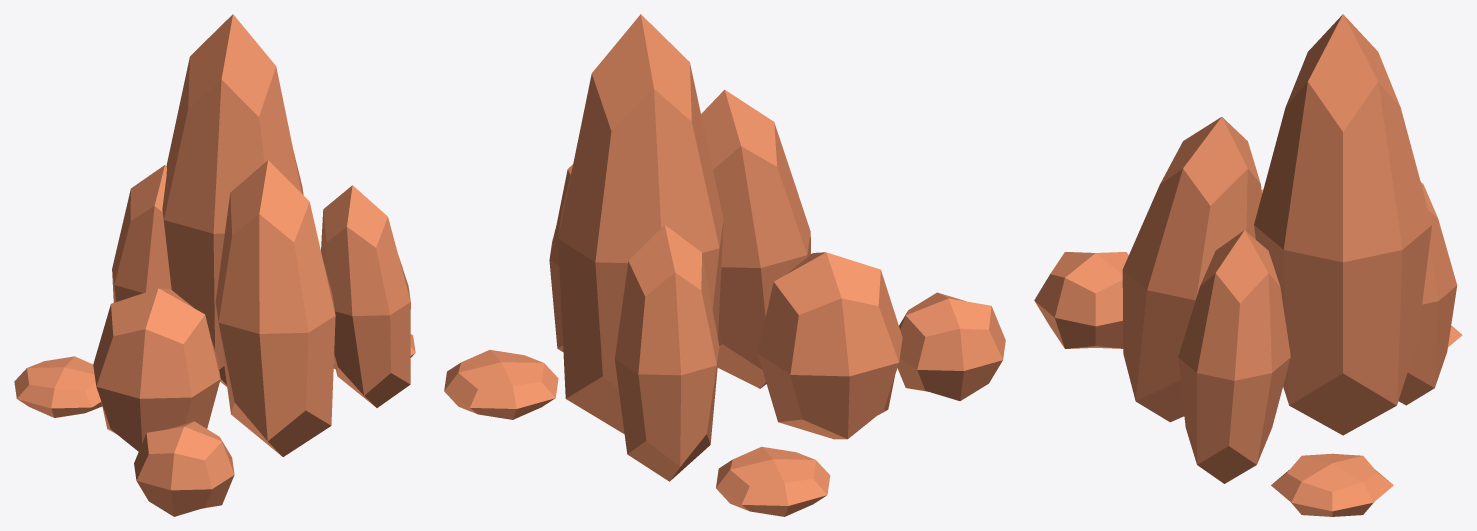
Rendered from rock01.fbx.
The picture shows the model from 3 angles, left to right: view 1: azimuth 30°, elevation 25°; view 2: azimuth 150°, elevation 25°; view 3: azimuth 270°, elevation 25°; orthographic projection. The views are drawn at different scales.
Parts seen in each view (by area): view 1: rock_01; view 2: rock_01; view 3: rock_01.
Boxes of the visible parts, x1,y1,x2,y2 form: rock_01: (14,14,415,516); rock_01: (444,14,1005,516); rock_01: (1034,14,1462,516).
Size of the model in its own units: 3.31 by 3.14 by 2.88.
Materials: 1 (1 with a texture image).
